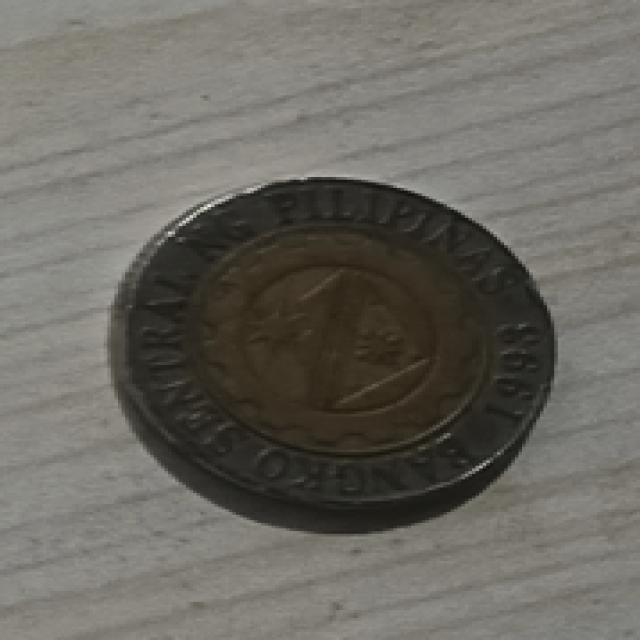10_peso: (114, 177, 554, 509)
